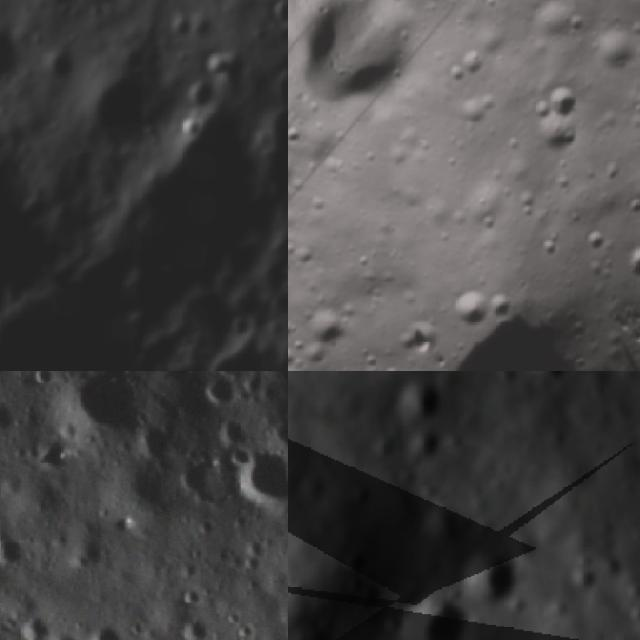crater: (52, 371, 154, 452), (76, 66, 157, 160), (448, 539, 531, 617), (387, 579, 480, 640), (374, 377, 448, 442), (577, 14, 640, 85), (229, 445, 288, 519), (293, 294, 355, 354), (440, 278, 500, 337), (0, 15, 37, 103), (452, 82, 499, 129), (197, 371, 246, 410), (444, 42, 487, 86), (542, 78, 586, 120), (73, 608, 130, 640), (171, 603, 215, 640), (0, 526, 31, 573), (160, 8, 199, 44), (171, 112, 211, 146), (288, 235, 323, 273), (185, 80, 223, 114), (615, 238, 640, 289), (553, 8, 589, 43), (578, 223, 612, 257), (525, 94, 557, 126), (228, 310, 257, 344), (622, 73, 640, 122), (266, 0, 288, 35), (620, 187, 640, 224), (392, 371, 441, 381), (288, 121, 306, 147)
